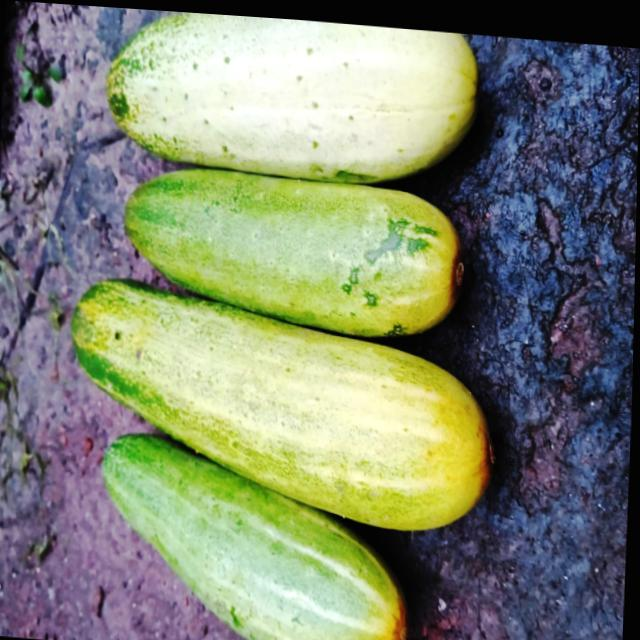Fresh-Cucumber: (65, 272, 506, 530), (92, 427, 419, 640), (101, 5, 482, 187), (118, 157, 469, 339)
